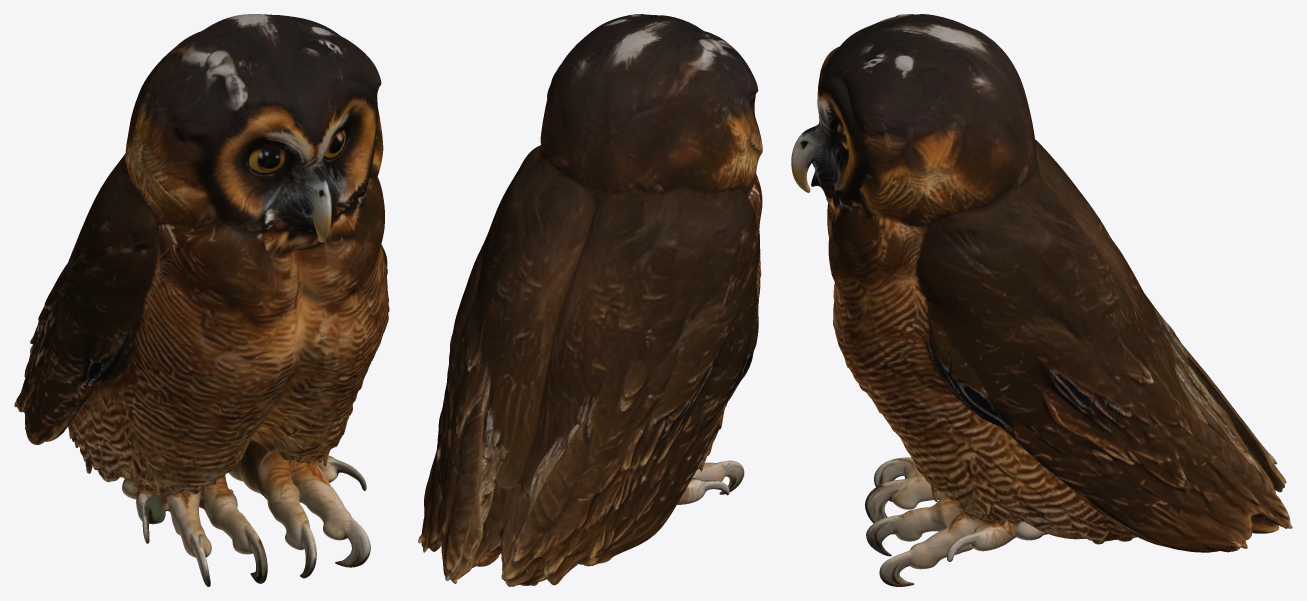
File: 褐林鴞.glb
3 views of the same model, side by side, from view 1: azimuth 30°, elevation 25°; view 2: azimuth 150°, elevation 25°; view 3: azimuth 270°, elevation 25° (orthographic). The views are drawn at different scales.
Visible parts, largest first — view 1: tripo_node_d2271fd4-5a04-47fc-be84-9fcda614f0f3; view 2: tripo_node_d2271fd4-5a04-47fc-be84-9fcda614f0f3; view 3: tripo_node_d2271fd4-5a04-47fc-be84-9fcda614f0f3.
Boxes of the visible parts, x1,y1,x2,y2 form: tripo_node_d2271fd4-5a04-47fc-be84-9fcda614f0f3: [14, 14, 389, 586]; tripo_node_d2271fd4-5a04-47fc-be84-9fcda614f0f3: [418, 14, 762, 586]; tripo_node_d2271fd4-5a04-47fc-be84-9fcda614f0f3: [791, 14, 1292, 586].
Bounding box in the file's own units: 0.5605 × 1 × 0.8673.
1 material, 1 textured.
